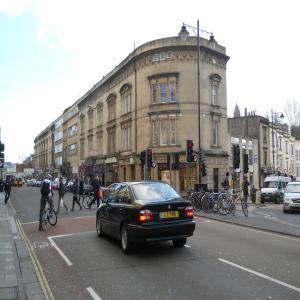Vehicle-registration-plate: (162, 212, 180, 220)
